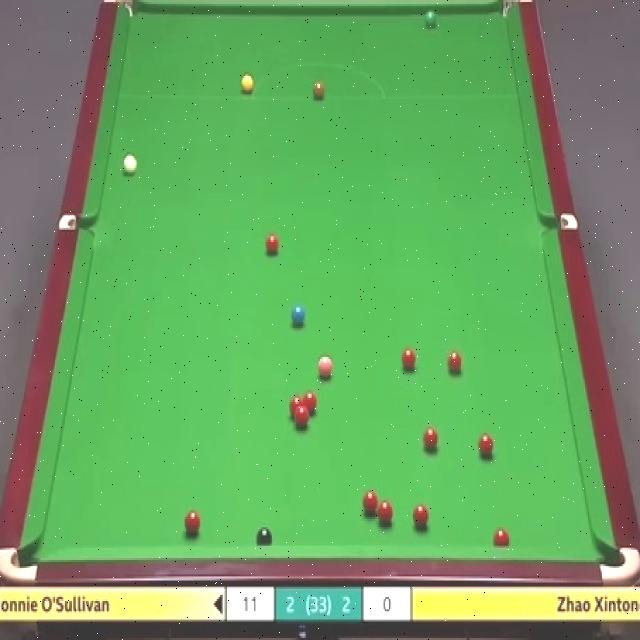black-ball: (256, 526, 274, 548)
blue-ball: (290, 304, 307, 326)
brown-ball: (312, 78, 324, 99)
green-ball: (423, 10, 438, 29)
pink-ball: (317, 356, 334, 381)
red-ball: (412, 504, 430, 532), (183, 509, 201, 536), (448, 348, 464, 378), (361, 491, 379, 517), (478, 433, 496, 458), (378, 498, 393, 528), (401, 346, 418, 372), (424, 425, 439, 451), (289, 396, 303, 421), (304, 391, 317, 416), (492, 527, 510, 545), (295, 409, 310, 429), (266, 232, 279, 255)
white-ball: (122, 155, 139, 176)
yellow-ball: (240, 76, 253, 93)
